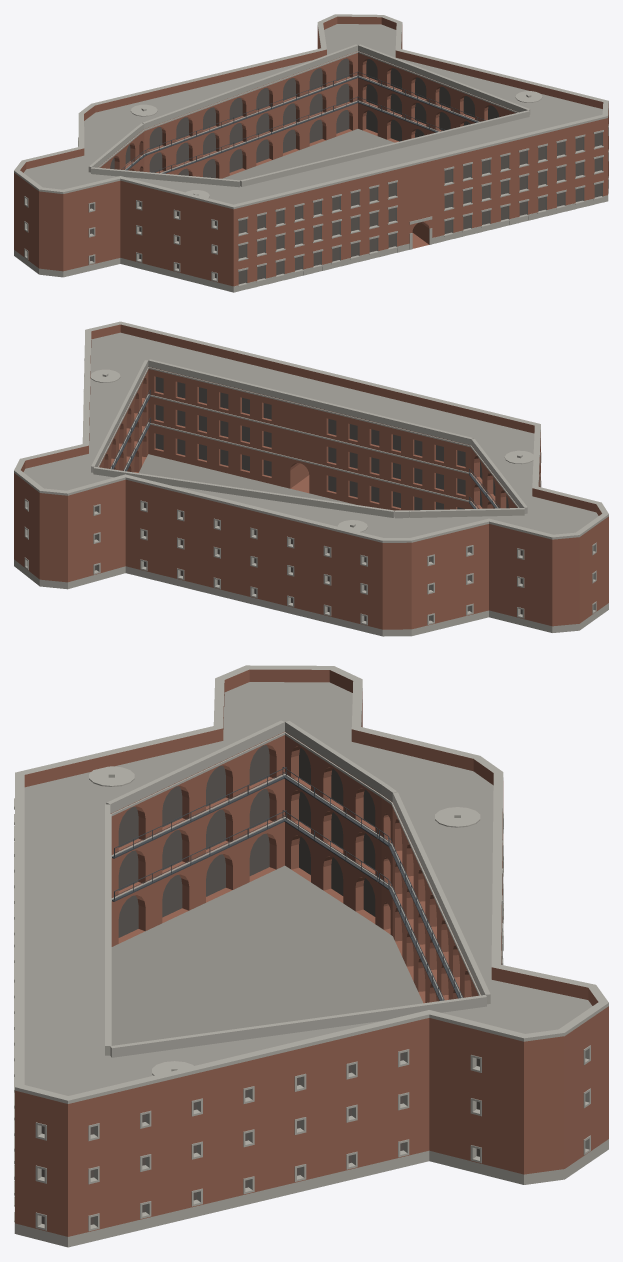
Rendered from exterior.glb.
3 views of the same model, one above another, from view 1: azimuth 30°, elevation 25°; view 2: azimuth 150°, elevation 25°; view 3: azimuth 270°, elevation 25° (orthographic). The views are drawn at different scales.
Visible parts, largest first — view 1: shell, roof-deck, parade-walls, parade-openings, parapet-inner, openings, trim-granite, shell-coping, parade-galleries, parade-floor, barbette-platforms; view 2: shell, parade-walls, roof-deck, parapet-inner, parade-openings, shell-coping, trim-granite, parade-floor, openings, barbette-platforms, parade-galleries; view 3: shell, roof-deck, parade-floor, parade-walls, parade-openings, parapet-inner, shell-coping, parade-galleries, trim-granite, openings, barbette-platforms.
Boxes of the visible parts, x1,y1,x2,y2 form: shell: (14, 22, 608, 292); roof-deck: (24, 24, 602, 204); parade-walls: (98, 51, 518, 178); parade-openings: (110, 58, 498, 178); parapet-inner: (20, 16, 603, 187); openings: (25, 132, 602, 285); trim-granite: (24, 124, 608, 292); shell-coping: (14, 14, 608, 207); parade-galleries: (121, 71, 485, 173); parade-floor: (222, 129, 394, 180); barbette-platforms: (130, 91, 542, 198); shell: (14, 430, 608, 636); parade-walls: (97, 366, 519, 510); roof-deck: (23, 332, 598, 537); parapet-inner: (21, 324, 601, 518); parade-openings: (103, 376, 517, 510); shell-coping: (14, 321, 608, 540); trim-granite: (24, 358, 596, 625); parade-floor: (139, 454, 354, 504); openings: (25, 463, 595, 623); barbette-platforms: (90, 369, 533, 532); parade-galleries: (110, 389, 500, 508); shell: (15, 688, 608, 1247); roof-deck: (24, 682, 592, 1095); parade-floor: (111, 865, 422, 1045); parade-walls: (110, 731, 480, 1045); parade-openings: (118, 744, 478, 1003); parapet-inner: (24, 669, 598, 1057); shell-coping: (15, 665, 608, 1100); parade-galleries: (112, 767, 463, 1000); trim-granite: (14, 798, 590, 1233); openings: (38, 1049, 588, 1228); barbette-platforms: (89, 766, 480, 1075).
Bounding box in the file's own units: 97.34 × 15.3 × 56.22.
